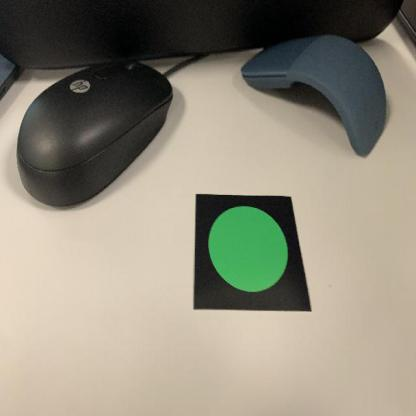go: (192, 192, 314, 317)
